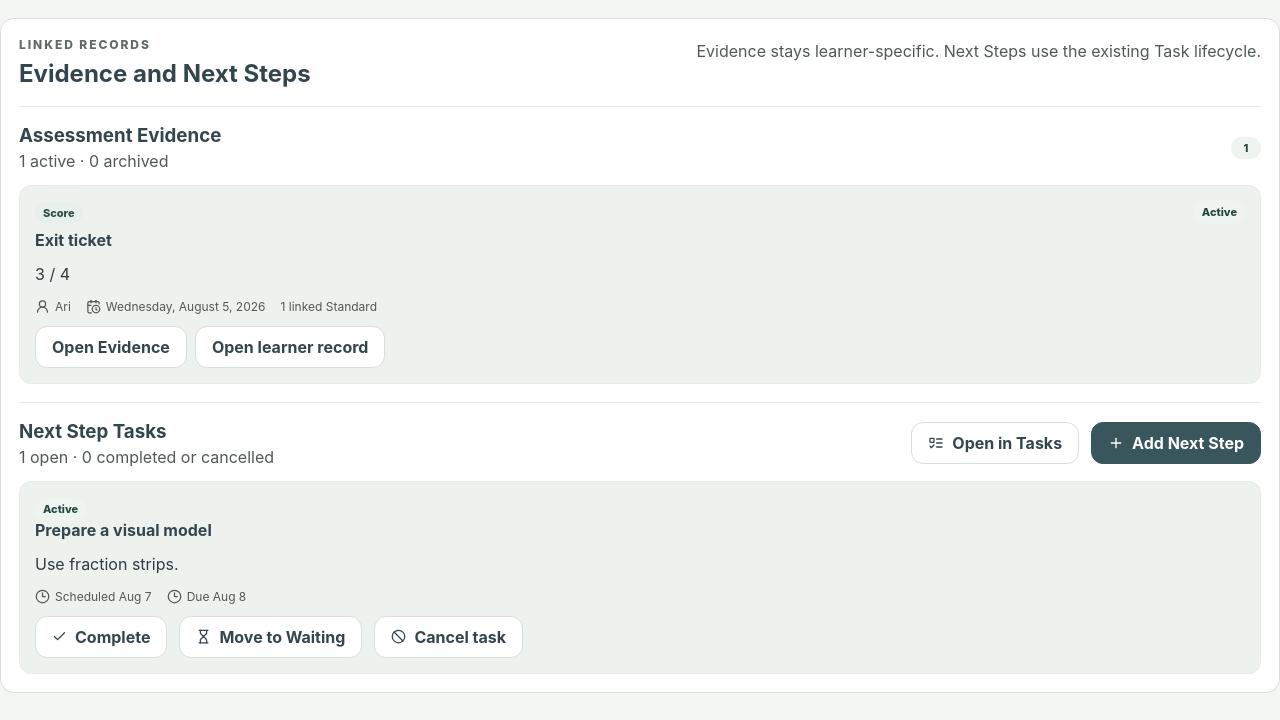
Test: TeachingReflectionRelatedRecords › uses the existing Task lifecycle for linked Next Steps
Click the button "Complete": (101, 637) 35,616 -> 167,658
(page scrolled)
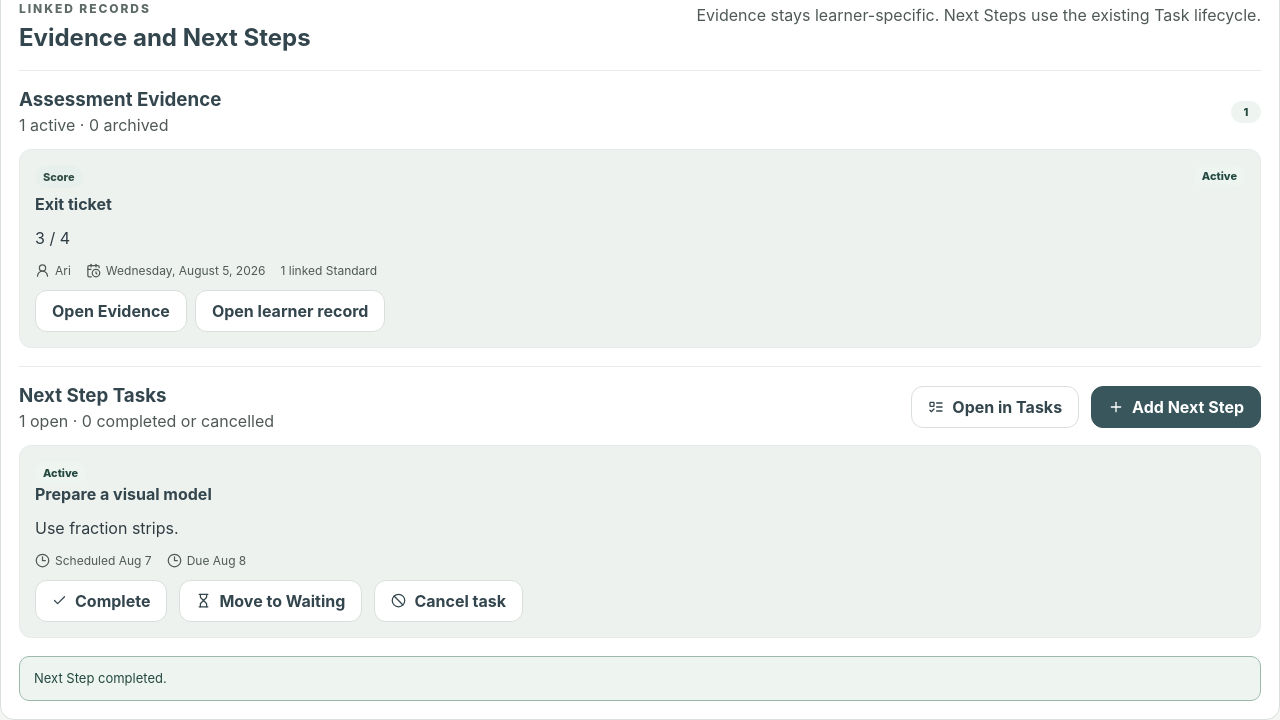
Expected: the message reads "Next Step completed.", 34,670 -> 167,686
